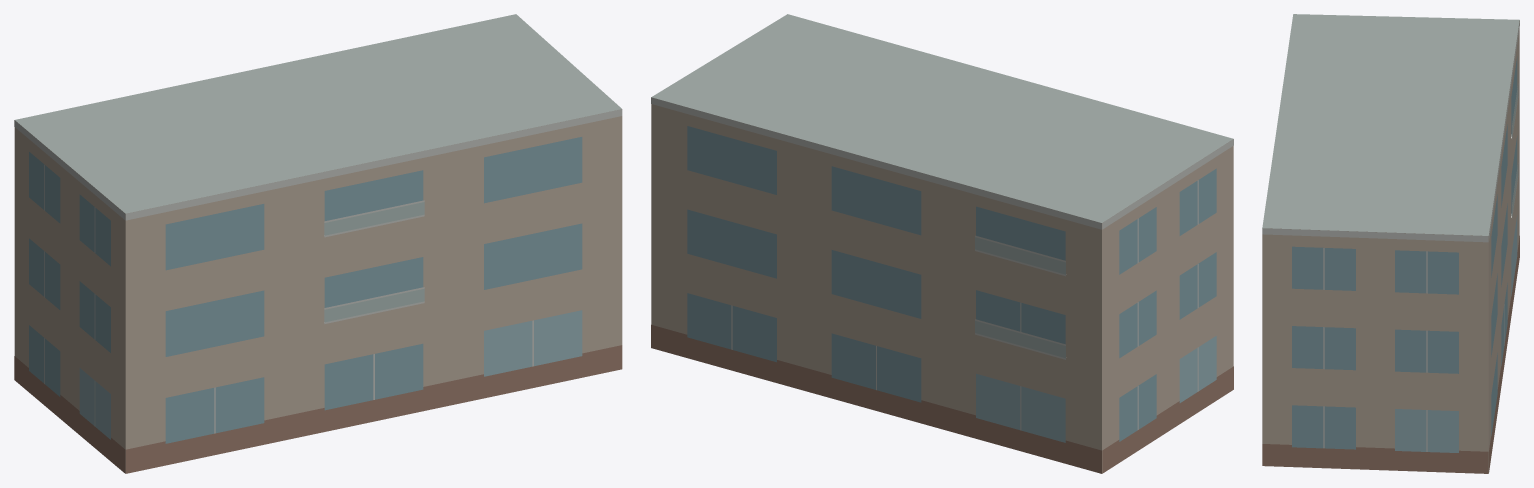
File: survey-upis-32800950.glb
The picture shows the model from 3 angles, left to right: view 1: azimuth 30°, elevation 25°; view 2: azimuth 150°, elevation 25°; view 3: azimuth 270°, elevation 25°; orthographic projection. The views are drawn at different scales.
Visible parts, largest first — view 1: survey-upis-32800950.tmp; view 2: survey-upis-32800950.tmp; view 3: survey-upis-32800950.tmp.
Part boxes in pixels (bbox=[...]): survey-upis-32800950.tmp: bbox=[14, 14, 622, 473]; survey-upis-32800950.tmp: bbox=[651, 14, 1233, 473]; survey-upis-32800950.tmp: bbox=[1262, 14, 1519, 473].
Size of the model in its own units: 18.32 by 9.15 by 8.98.
